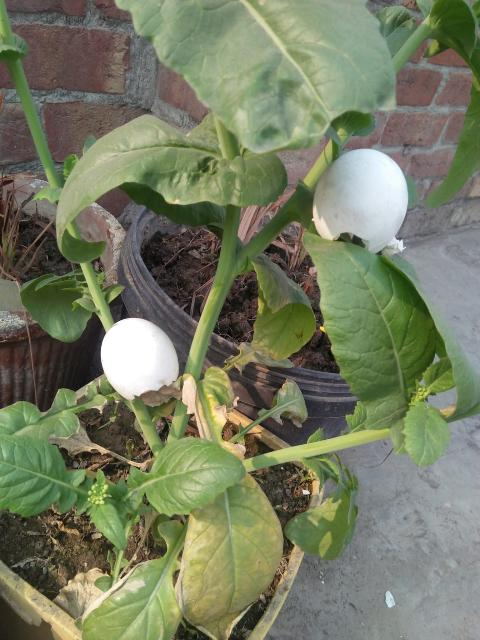Roto: (311, 147, 409, 254), (99, 316, 179, 401)
